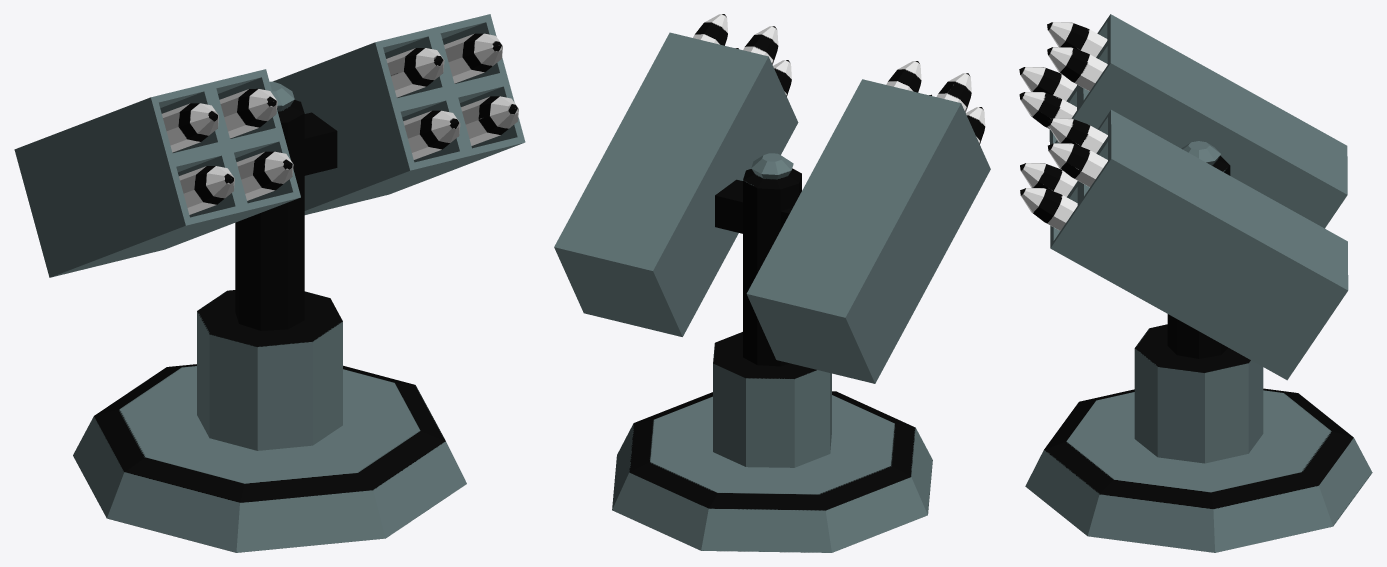
The model's file is Lanza Misiles Final.fbx.
3 views of the same model, side by side, from view 1: azimuth 30°, elevation 25°; view 2: azimuth 150°, elevation 25°; view 3: azimuth 270°, elevation 25° (orthographic). The views are drawn at different scales.
Visible parts, largest first — view 1: TorretaMisiles, PortaMisiles, Misiles, Torno; view 2: PortaMisiles, TorretaMisiles, Torno, Misiles; view 3: PortaMisiles, TorretaMisiles, Misiles, Torno.
Boxes of the visible parts, left/top/right/bottom form: TorretaMisiles: left=73, top=290, right=466, bottom=552; PortaMisiles: left=14, top=14, right=525, bottom=277; Misiles: left=162, top=33, right=518, bottom=214; Torno: left=235, top=81, right=337, bottom=330; PortaMisiles: left=554, top=32, right=990, bottom=383; TorretaMisiles: left=612, top=332, right=932, bottom=552; Torno: left=715, top=153, right=801, bottom=366; Misiles: left=693, top=14, right=985, bottom=144; PortaMisiles: left=1049, top=14, right=1348, bottom=380; TorretaMisiles: left=1025, top=324, right=1372, bottom=552; Misiles: left=1019, top=22, right=1107, bottom=230; Torno: left=1167, top=141, right=1230, bottom=358.
Size of the model in its own units: 199 by 251 by 202.
4 materials, 4 textured.
